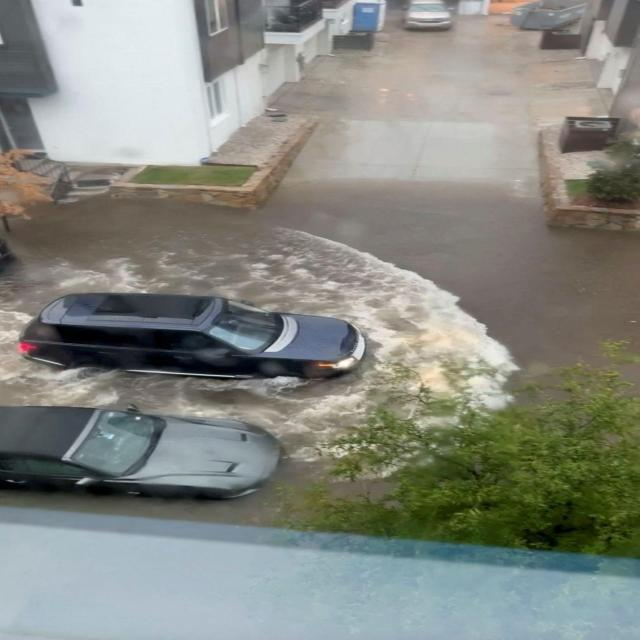water: (0, 3, 639, 346), (0, 287, 639, 405), (1, 403, 403, 532), (394, 387, 561, 418), (358, 400, 456, 428)
